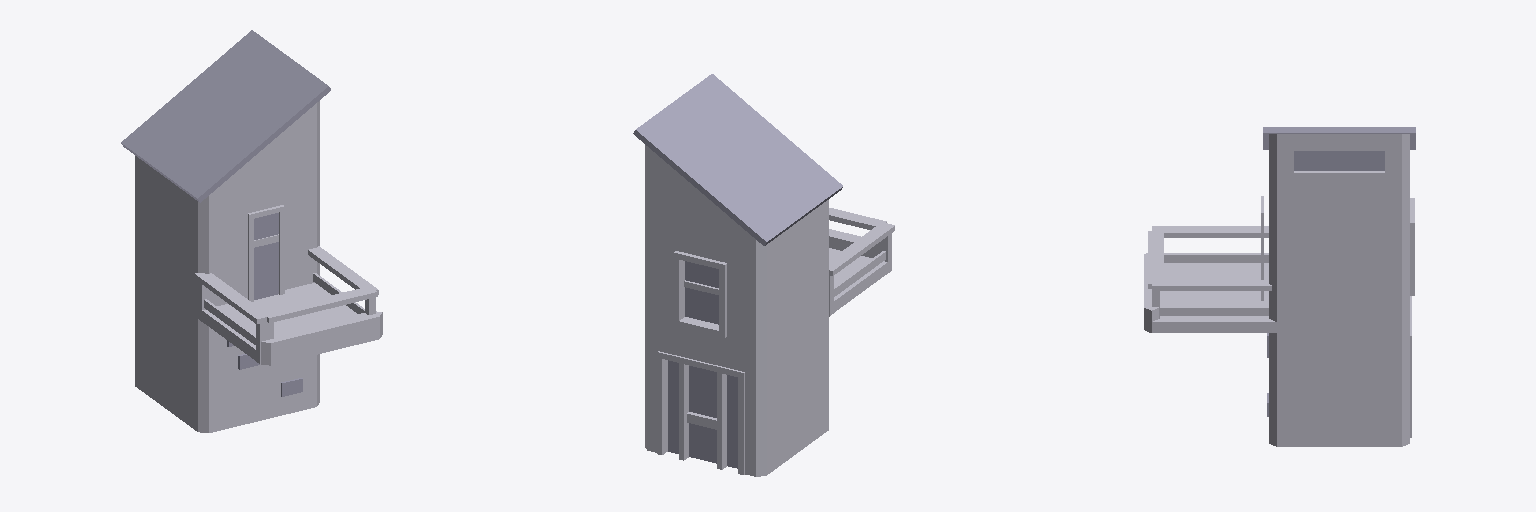
File: building4.obj
3 renders of one model, left to right at view 1: azimuth 30°, elevation 25°; view 2: azimuth 150°, elevation 25°; view 3: azimuth 270°, elevation 25°, orthographic.
Size of the model in its own units: 1.24 by 2.83 by 2.17.